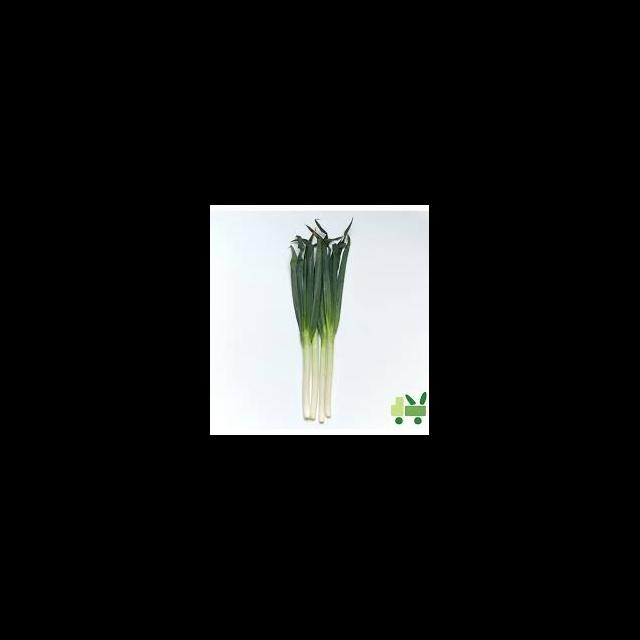green_onion: (291, 218, 353, 423)
